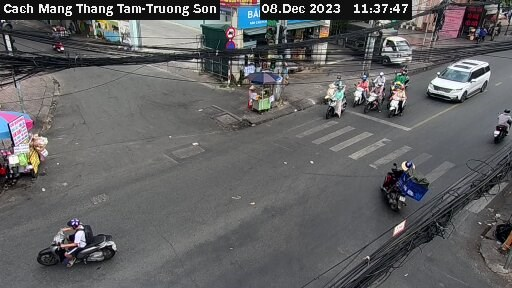car: (427, 54, 495, 107)
motorbike: (35, 218, 121, 267), (380, 158, 431, 214), (480, 102, 512, 143), (328, 88, 352, 123), (383, 89, 407, 117), (364, 81, 384, 113), (323, 75, 345, 99), (348, 74, 367, 101)
truck: (343, 19, 412, 69)
